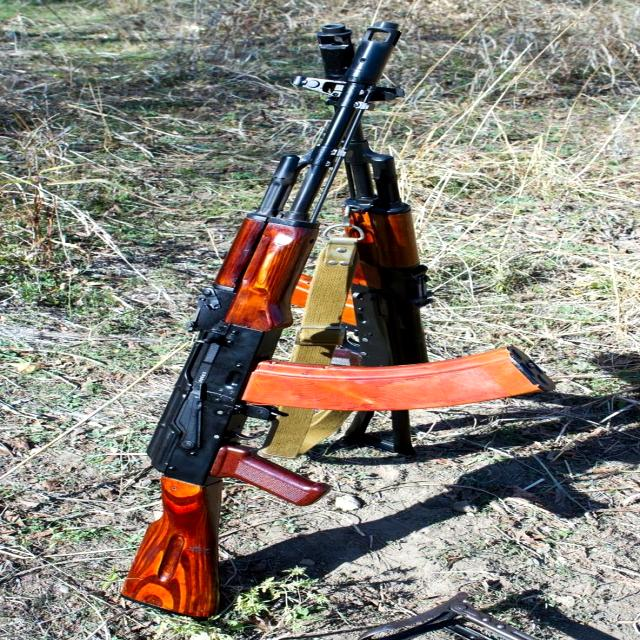ak: (124, 21, 556, 624)
